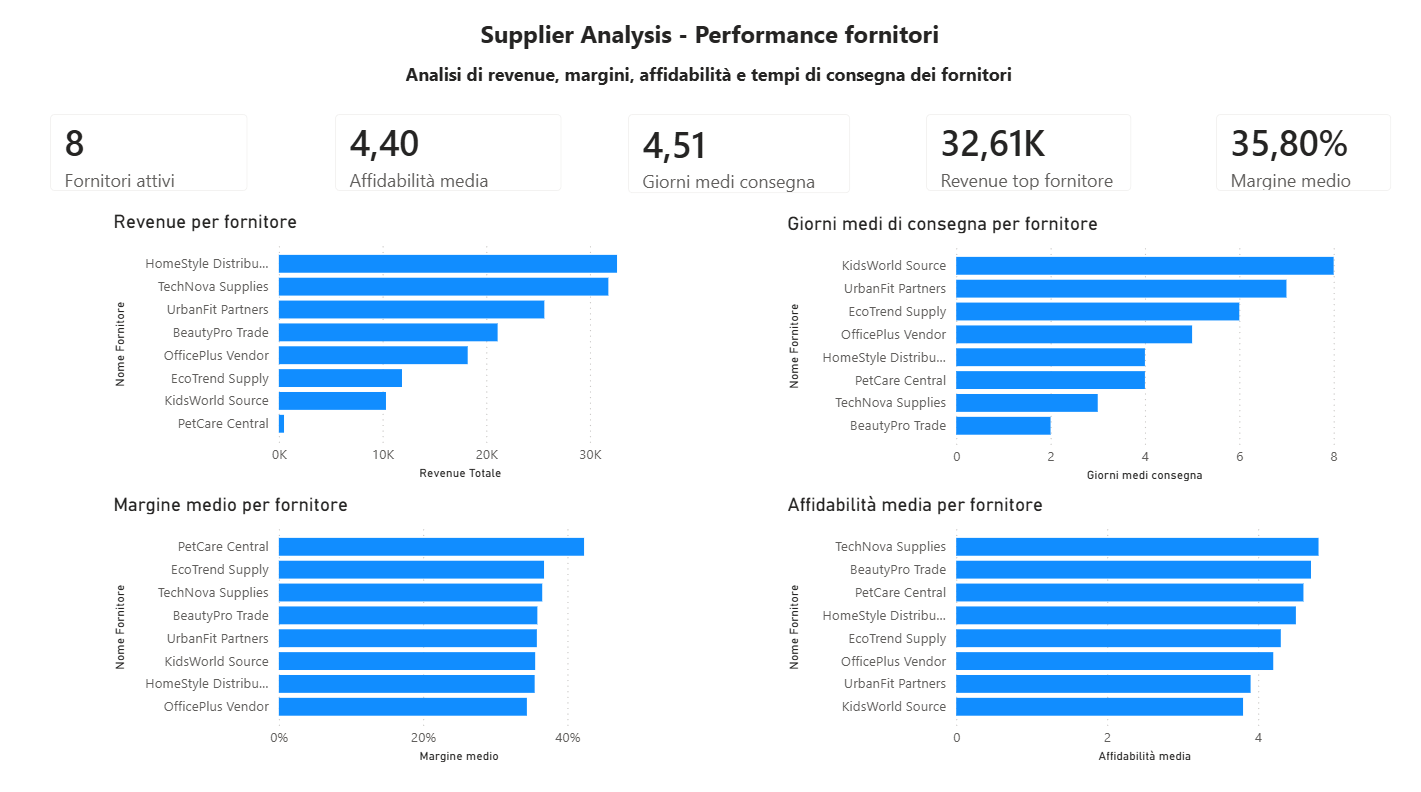

The dashboard page shown, as its layout file describes it:
{"tool":"powerbi","page":{"name":"Analisi Fornitori","canvas":[1280,720],"ordinal":2},"visuals":[{"type":"textbox","box":[428,17,423,39],"z":0},{"type":"textbox","box":[361,56,557,35],"z":1000},{"type":"cardVisual","fields":{"Data":["sales_analysis.Average Delivery Days"]},"box":[548,91,233,105],"z":2000},{"type":"cardVisual","fields":{"Data":["sales_analysis.Number of Suppliers"]},"box":[30,91,211,103],"z":3000},{"type":"cardVisual","fields":{"Data":["sales_analysis.Top Supplier Revenue"]},"box":[815,91,218,103],"z":4000},{"type":"cardVisual","fields":{"Data":["sales_analysis.Average Reliability Score"]},"box":[286,91,237,103],"z":5000},{"type":"cardVisual","fields":{"Data":["sales_analysis.Average Margin %"]},"box":[1075,91,191,103],"z":6000},{"type":"clusteredBarChart","title":"Revenue per fornitore","fields":{"Category":["sales_analysis.supplier_name"],"Y":["sales_analysis.Total Revenue"]},"box":[99,194,493,246],"z":7000},{"type":"clusteredBarChart","title":"Margine medio per fornitore","fields":{"Category":["sales_analysis.supplier_name"],"Y":["sales_analysis.Average Margin %"]},"box":[99,448,493,246],"z":8000},{"type":"clusteredBarChart","title":"Giorni medi di consegna per fornitore","fields":{"Category":["sales_analysis.supplier_name"],"Y":["sales_analysis.Average Delivery Days"]},"box":[703,196,503,246],"z":9000},{"type":"clusteredBarChart","title":"Affidabilità media per fornitore","fields":{"Category":["sales_analysis.supplier_name"],"Y":["sales_analysis.Average Reliability Score"]},"box":[703,448,503,246],"z":10000}]}

Visuals, with their boxes in screenshot pixels (x1, y1, x2, y2), scaled from the page's 1280x720 canvas onto the 1421x792 screenshot:
textbox: left=475, top=19, right=945, bottom=62
textbox: left=401, top=62, right=1019, bottom=100
cardVisual - sales_analysis.Average Delivery Days: left=608, top=100, right=867, bottom=216
cardVisual - sales_analysis.Number of Suppliers: left=33, top=100, right=268, bottom=213
cardVisual - sales_analysis.Top Supplier Revenue: left=905, top=100, right=1147, bottom=213
cardVisual - sales_analysis.Average Reliability Score: left=318, top=100, right=581, bottom=213
cardVisual - sales_analysis.Average Margin %: left=1193, top=100, right=1405, bottom=213
"Revenue per fornitore" clusteredBarChart: left=110, top=213, right=657, bottom=484
"Margine medio per fornitore" clusteredBarChart: left=110, top=493, right=657, bottom=763
"Giorni medi di consegna per fornitore" clusteredBarChart: left=780, top=216, right=1339, bottom=486
"Affidabilità media per fornitore" clusteredBarChart: left=780, top=493, right=1339, bottom=763
